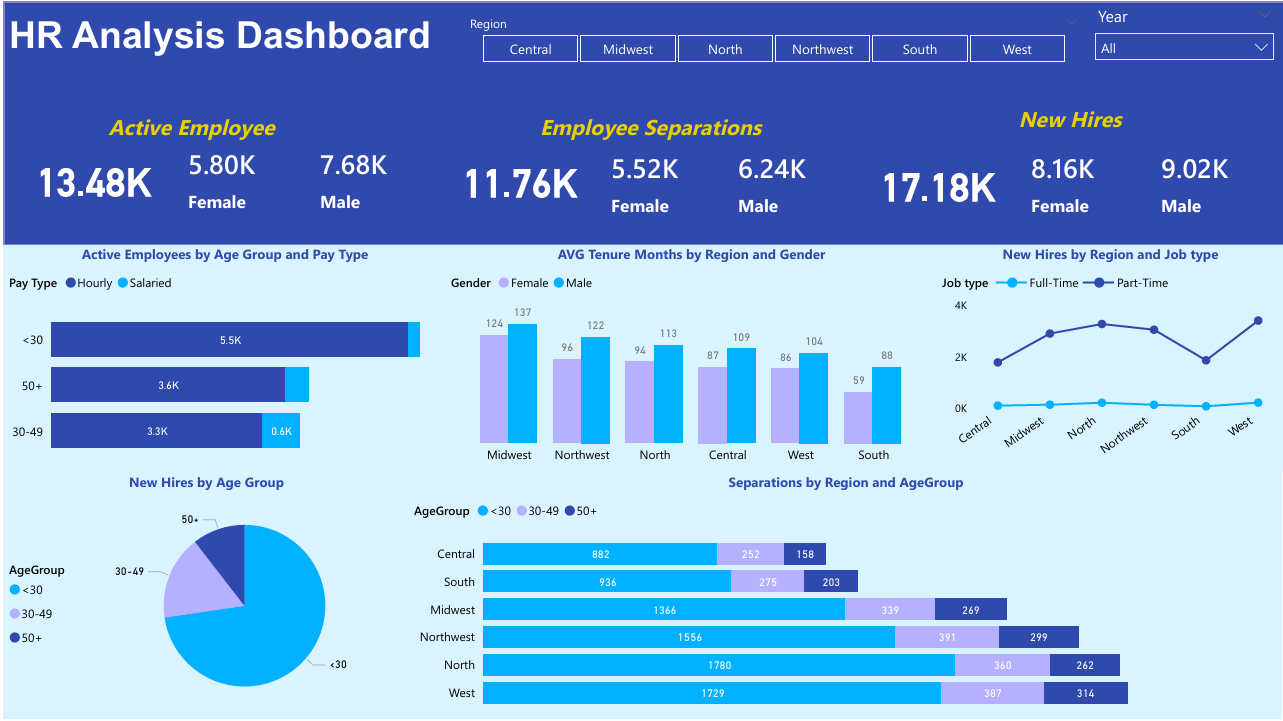

Layout of this report page (visuals, bound fields, positions):
{"tool":"powerbi","page":{"name":"HR Analysis Dashboard","canvas":[1280,720],"ordinal":0},"visuals":[{"type":"group","id":"g1","title":"Group 3","box":[0,0,1280,244.9],"z":0},{"type":"shape","box":[0,1.6,1280,243.3],"z":0,"group":"g1"},{"type":"card","fields":{"Values":["Measures New.Actives"]},"box":[11.9,128.7,154.9,98.8],"z":0,"group":"g2"},{"type":"card","fields":{"Values":["Measures New.New Hires"]},"box":[856.6,132.7,152.8,101.1],"z":0,"group":"g4"},{"type":"card","fields":{"Values":["Measures New.Separations"]},"box":[440.9,132.9,149.4,94.7],"z":0,"group":"g3"},{"type":"textbox","box":[0,9,440.5,59],"z":1000,"group":"g1"},{"type":"textbox","box":[904.7,98.9,322.2,45.4],"z":1000,"group":"g4"},{"type":"textbox","box":[23.8,106.6,326.8,44.2],"z":1000,"group":"g2"},{"type":"textbox","box":[490.5,107.1,311.3,42.2],"z":1000,"group":"g3"},{"type":"barChart","title":"Active Employees by Age Group and Pay Type ","fields":{"Series":["PayType.PayType"],"Y":["Measures New.Actives"],"Category":["AgeGroup.AgeGroup"]},"box":[0,244.9,441.6,228],"z":1000},{"type":"slicer","fields":{"Values":["BU.Region"]},"box":[452.8,9.5,631.5,58.8],"z":2000,"group":"g5"},{"type":"cardVisual","fields":{"Data":["Measures New.Female Emp Actives","Measures New.Male Emp Actives"]},"box":[166.8,128.7,274,98.8],"z":2000,"group":"g2"},{"type":"cardVisual","fields":{"Data":["Measures New.Female New Hires","Measures New.Male New Hires"]},"box":[1009.4,132.7,270.4,101.1],"z":2000,"group":"g4"},{"type":"cardVisual","fields":{"Data":["Measures New.Female Separations","Measures New.Male Separations"]},"box":[590.3,132.9,264.3,94.7],"z":2000,"group":"g3"},{"type":"clusteredColumnChart","fields":{"Y":["Measures New.AVG Tenure Months"],"Category":["BU.Region"],"Series":["Gender.Gender"]},"box":[441.6,244.9,491,228],"z":2000},{"type":"group","id":"g2","title":"Group 1","box":[11.9,106.6,428.9,120.9],"z":3000,"group":"g1"},{"type":"lineChart","fields":{"Y":["Measures New.New Hires"],"Category":["BU.Region"],"Series":["FP.Job type"]},"box":[932.6,244.9,347.5,228],"z":3000},{"type":"group","id":"g3","title":"Group 1","box":[440.9,107.1,413.6,120.5],"z":4000,"group":"g1"},{"type":"pieChart","title":"New Hires by Age Group","fields":{"Category":["AgeGroup.AgeGroup"],"Y":["Measures New.New Hires"]},"box":[0,472.9,405.4,247.3],"z":4000},{"type":"group","id":"g4","title":"Group 1","box":[856.6,98.9,423.5,135.1],"z":5000,"group":"g1"},{"type":"barChart","fields":{"Y":["Measures New.Separations"],"Category":["BU.Region"],"Series":["AgeGroup.AgeGroup"]},"box":[405.4,472.9,873.5,247.3],"z":5000},{"type":"slicer","fields":{"Values":["Date.Date.Variation.Date Hierarchy.Year"]},"box":[1080.4,0,199.1,67.6],"z":6000,"group":"g5"},{"type":"group","id":"g5","title":"Group 2","box":[452.8,0,826.7,68.4],"z":6001,"group":"g1"}]}

Visuals, with their boxes in screenshot pixels (x1, y1, x2, y2), scaled from the page's 1280x720 canvas onto the 1283x721 screenshot:
"Group 3" group: 0,0,1282,245
shape: 0,2,1282,245
card - Measures New.Actives: 12,129,167,228
card - Measures New.New Hires: 859,133,1012,234
card - Measures New.Separations: 442,133,592,228
textbox: 0,9,442,68
textbox: 907,99,1230,145
textbox: 24,107,351,151
textbox: 492,107,804,150
"Active Employees by Age Group and Pay Type " barChart: 0,245,443,474
slicer - BU.Region: 454,10,1087,68
cardVisual - Measures New.Female Emp Actives x Measures New.Male Emp Actives: 167,129,442,228
cardVisual - Measures New.Female New Hires x Measures New.Male New Hires: 1012,133,1282,234
cardVisual - Measures New.Female Separations x Measures New.Male Separations: 592,133,857,228
clusteredColumnChart - Measures New.AVG Tenure Months x BU.Region: 443,245,935,474
"Group 1" group: 12,107,442,228
lineChart - Measures New.New Hires x BU.Region: 935,245,1282,474
"Group 1" group: 442,107,857,228
"New Hires by Age Group" pieChart: 0,474,406,720
"Group 1" group: 859,99,1282,234
barChart - Measures New.Separations x BU.Region: 406,474,1282,720
slicer - Date.Date.Variation.Date Hierarchy.Year: 1083,0,1282,68
"Group 2" group: 454,0,1282,68
